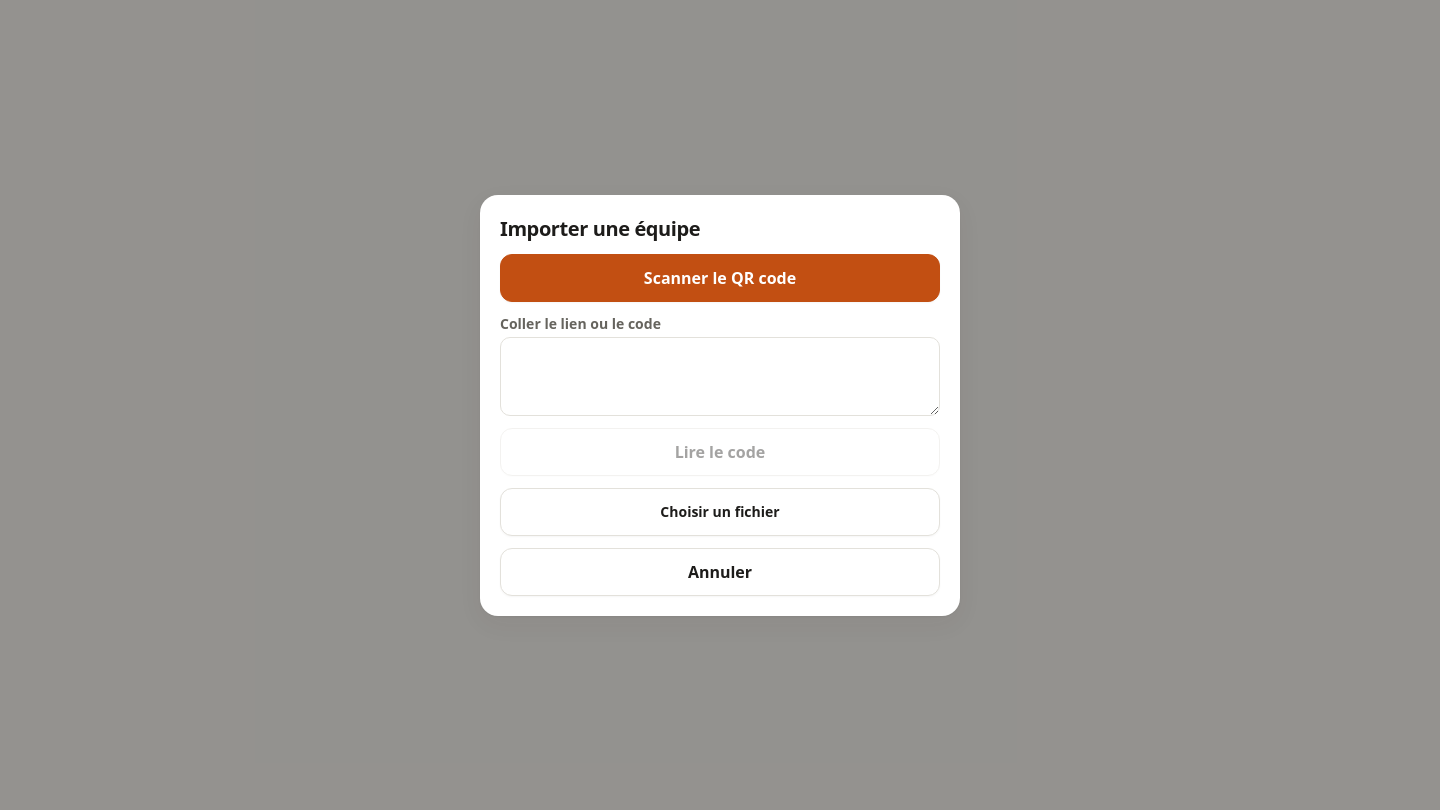
Test: ImportEquipe › propose les autres moyens si la caméra est refusée
Click the button "Scanner le QR code" at (720, 278), box [500, 254, 940, 302]
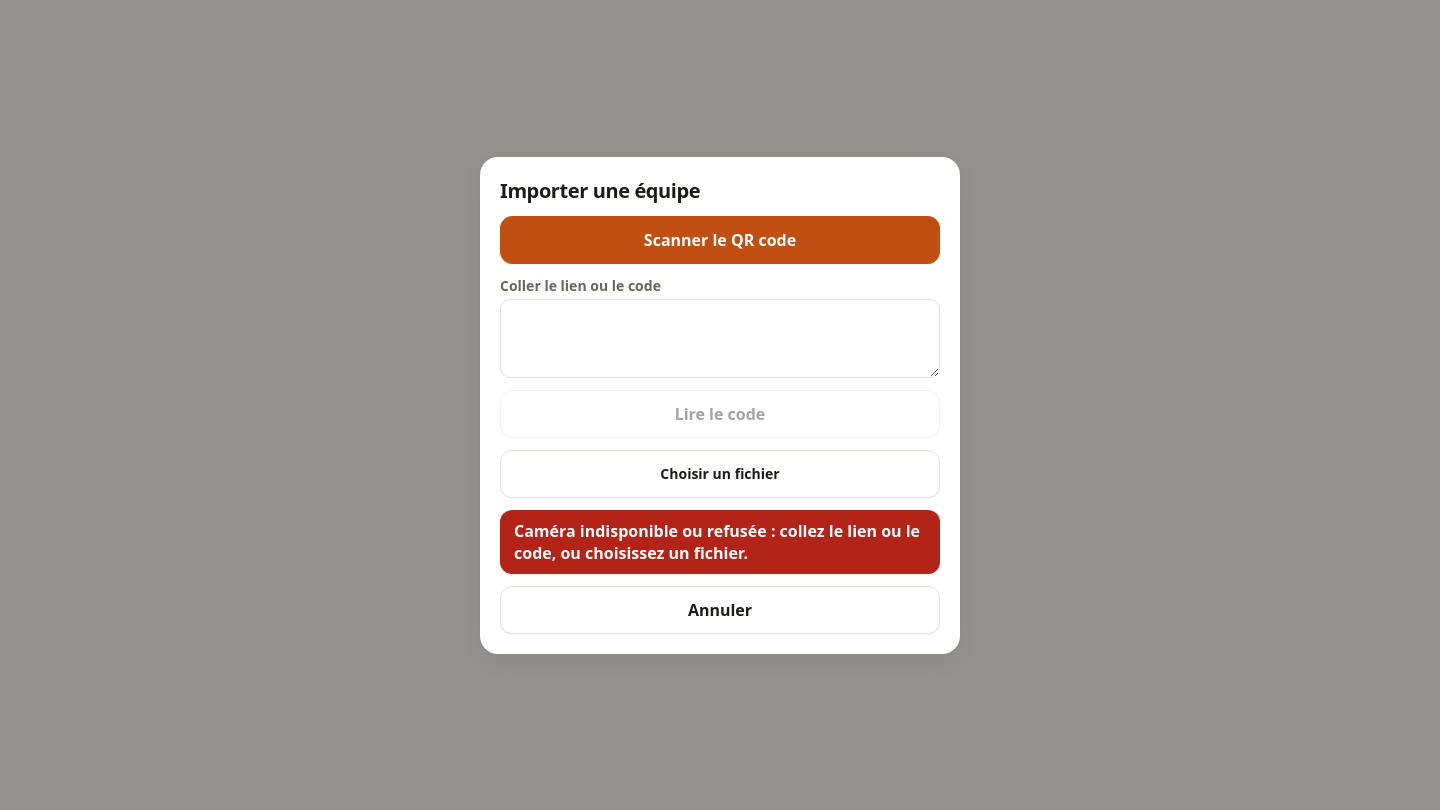
Check: the button "Scanner le QR code" is shown, box [500, 216, 940, 264]
Check: the message shows "Caméra indisponible ou refusée : collez le lien ou le code, ou choisissez un fichier.", box [514, 520, 920, 564]
